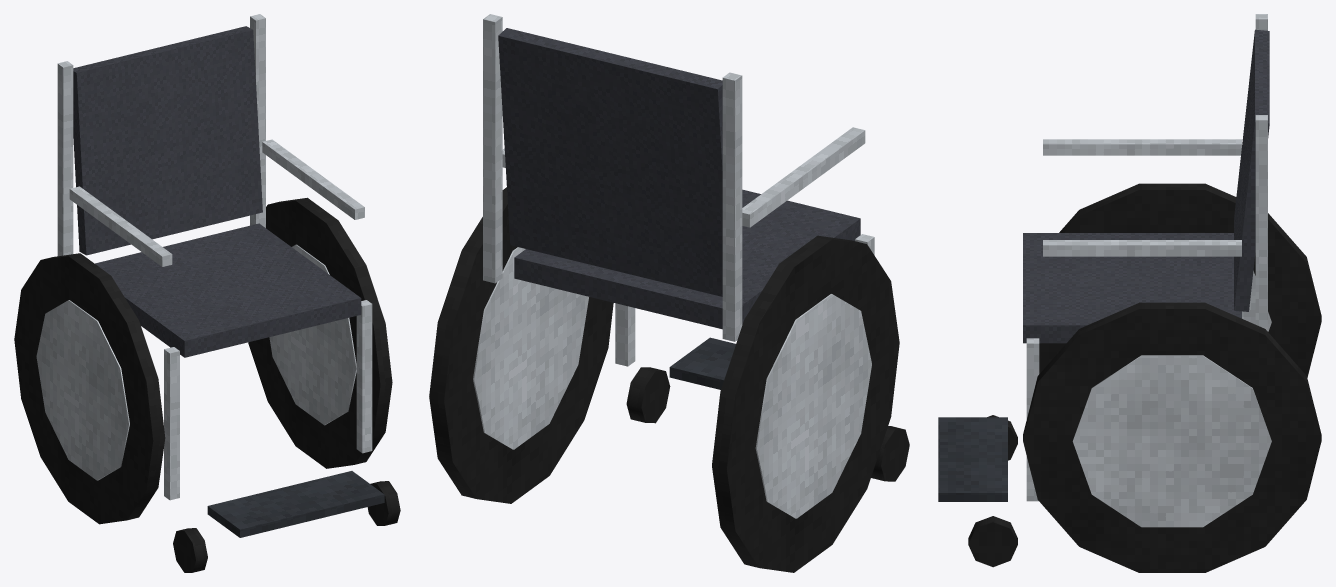
The model's file is tfg_wheelchair.glb.
The picture shows the model from 3 angles, left to right: view 1: azimuth 30°, elevation 25°; view 2: azimuth 150°, elevation 25°; view 3: azimuth 270°, elevation 25°; orthographic projection. The views are drawn at different scales.
Visible parts, largest first — view 1: tfg_wheelchair; view 2: tfg_wheelchair; view 3: tfg_wheelchair.
Part boxes in pixels (bbox=[...]): tfg_wheelchair: bbox=[14, 14, 400, 572]; tfg_wheelchair: bbox=[429, 14, 909, 572]; tfg_wheelchair: bbox=[938, 14, 1321, 572].
Size of the model in its own units: 0.6014 by 0.99 by 0.77.
Materials: 4 (4 with a texture image).
